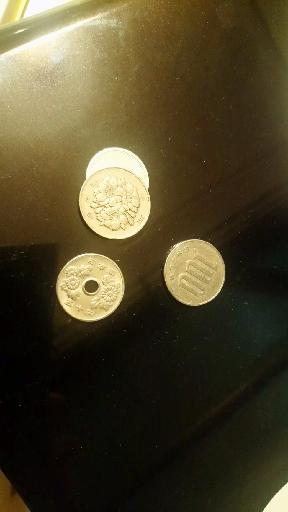100yen: (79, 168, 150, 238), (164, 240, 224, 305)
1yen: (85, 147, 148, 213)
50yen: (56, 253, 125, 322)
